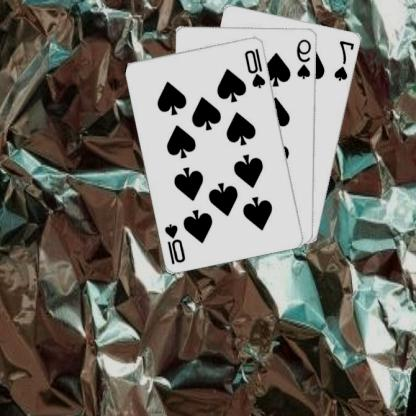10S: (244, 46, 269, 90), (164, 221, 189, 265)
7S: (334, 38, 358, 82)
9S: (296, 36, 314, 80)
